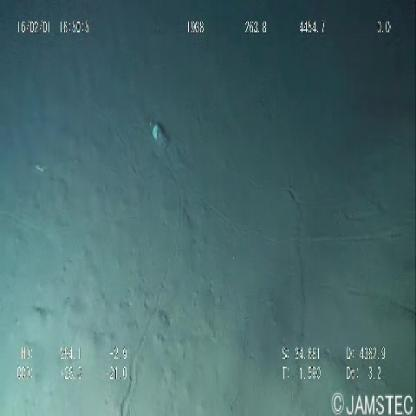Rác: (146, 111, 172, 156)
